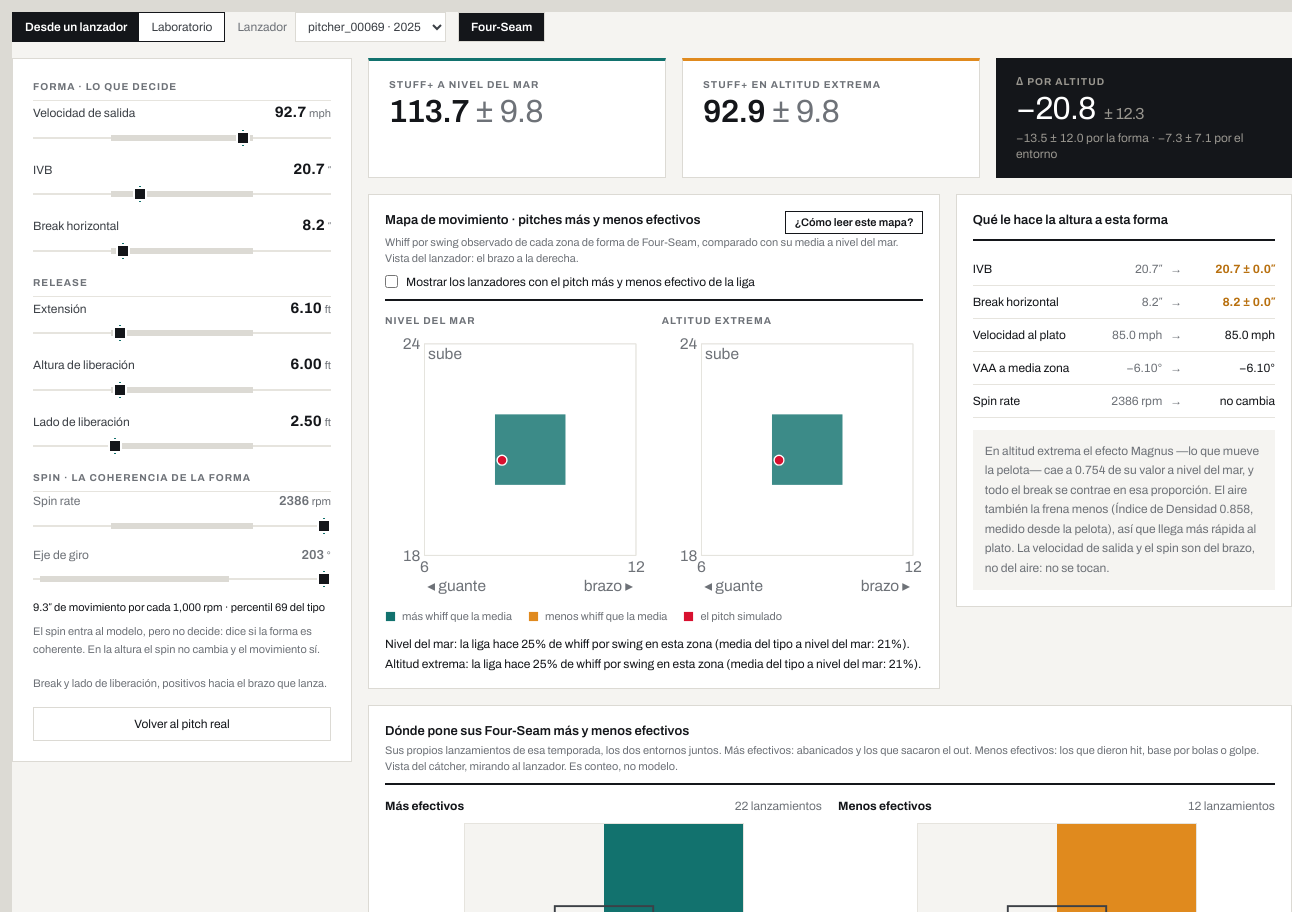
el Simulador › los lanzadores mas y menos efectivos de la liga salen apagados, y una casilla los muestra
This screenshot has width=1292, height=912.
expect the text "10% más efectivos" is not shown: met
Step 1. Click the checkbox labelled "Mostrar los lanzadores con el pitch más y menos efectivo de la liga" → (392, 282), box [385,275,398,288]
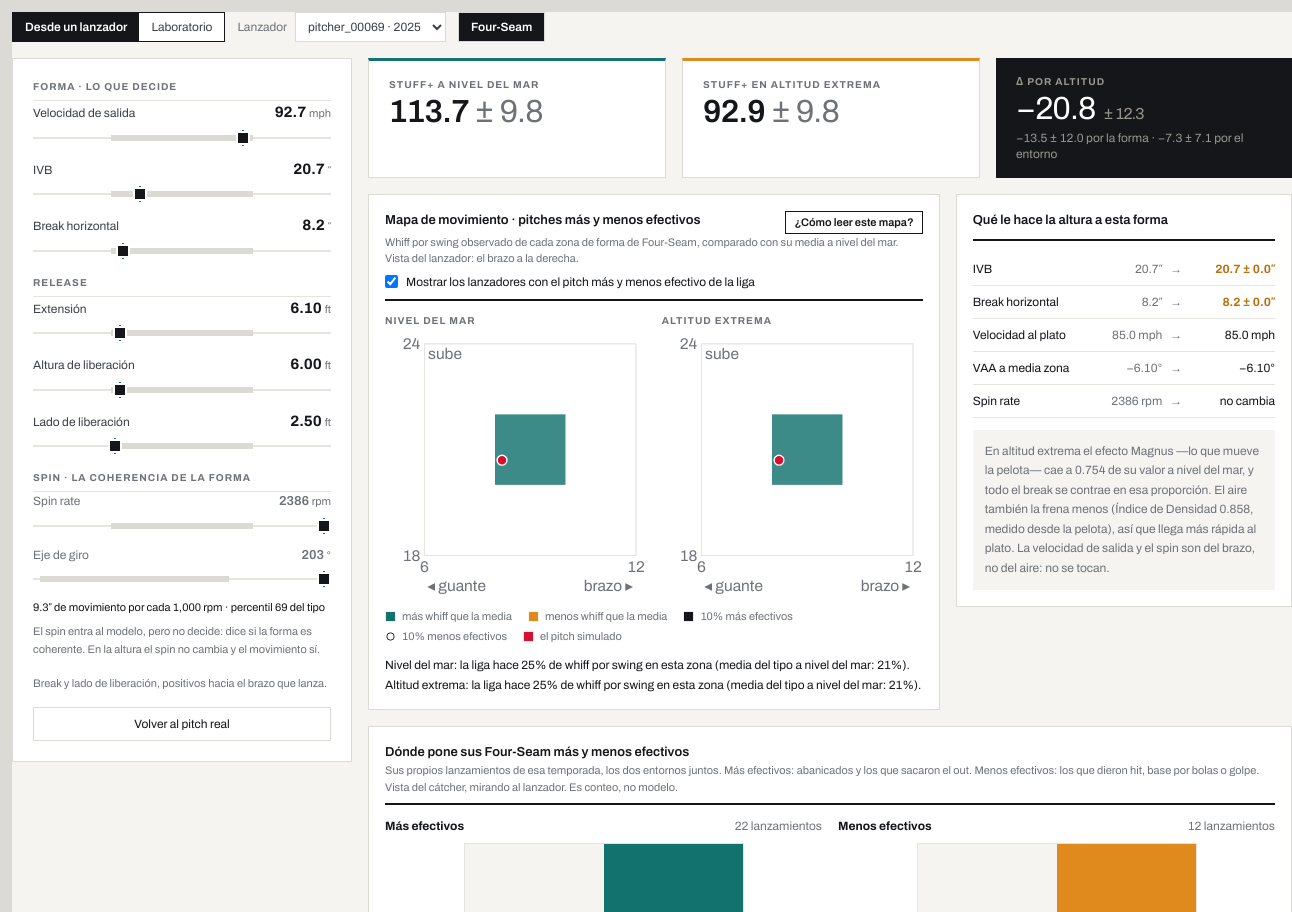
expect the text "10% más efectivos" is shown: met, box [683,608,793,624]
